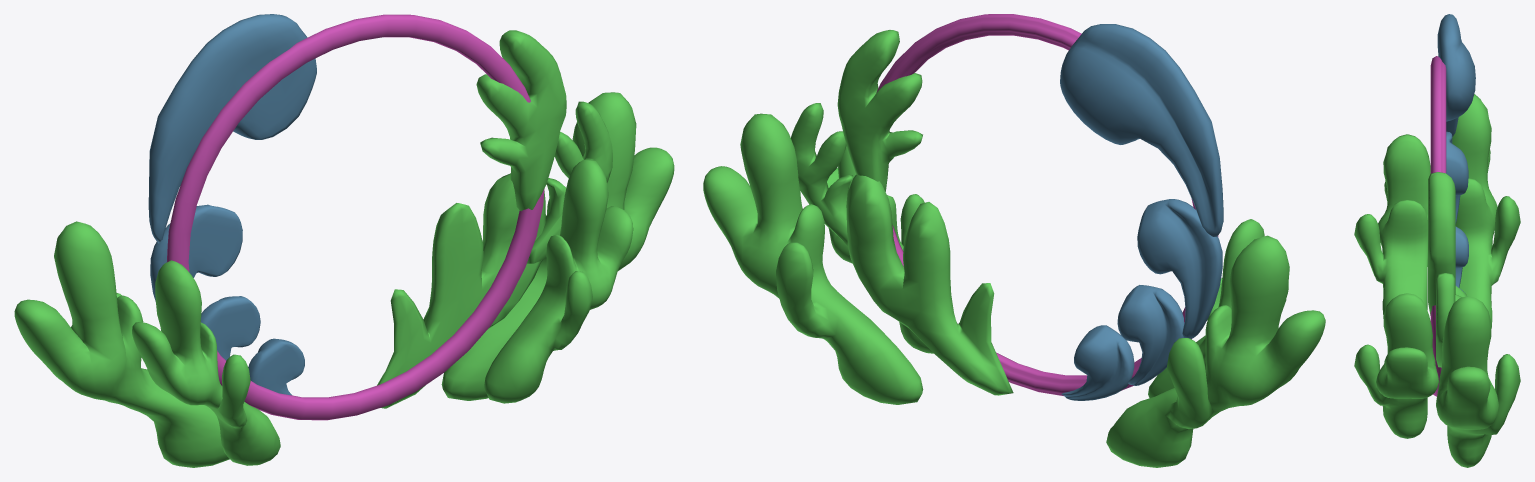
Rendered from gate2.fbx.
3 renders of one model, left to right at view 1: azimuth 30°, elevation 25°; view 2: azimuth 150°, elevation 25°; view 3: azimuth 270°, elevation 25°, orthographic. The views are drawn at different scales.
Visible parts, largest first — view 1: pCylinder14, pCube70, pCube63, pCube71, pCube64, pCube69, pCube67, pCube65, pCube61, pCube66, pCube59, pCube62; view 2: pCube67, pCube70, pCube63, pCube64, pCube65, pCube61, pCylinder14, pCube66, pCube59, pCube62, pCube69, pCube71; view 3: pCube67, pCube69, pCube71, pCube70, pCube65, pCube63, pCylinder14, pCube66, pCube61, pCube59.
Part boxes in pixels (<box>): pCylinder14: <box>166,14,544,420</box>; pCube70: <box>14,221,229,467</box>; pCube63: <box>148,14,316,243</box>; pCube71: <box>484,159,633,403</box>; pCube64: <box>377,173,545,408</box>; pCube69: <box>132,260,280,465</box>; pCube67: <box>441,92,674,400</box>; pCube65: <box>476,30,566,211</box>; pCube61: <box>150,204,242,301</box>; pCube66: <box>527,101,612,263</box>; pCube59: <box>201,296,260,360</box>; pCube62: <box>248,338,304,395</box>; pCube67: <box>703,113,923,404</box>; pCube70: <box>1106,235,1325,467</box>; pCube63: <box>1060,24,1223,236</box>; pCube64: <box>846,174,1013,395</box>; pCube65: <box>837,30,922,191</box>; pCube61: <box>1137,199,1222,338</box>; pCylinder14: <box>876,14,1218,395</box>; pCube66: <box>791,103,852,245</box>; pCube59: <box>1117,285,1184,385</box>; pCube62: <box>1061,325,1134,400</box>; pCube69: <box>1148,219,1288,398</box>; pCube71: <box>827,145,933,353</box>; pCube67: <box>1436,296,1520,467</box>; pCube69: <box>1354,134,1430,314</box>; pCube71: <box>1354,293,1438,438</box>; pCube70: <box>1452,94,1520,328</box>; pCube65: <box>1428,172,1455,315</box>; pCube63: <box>1437,14,1475,136</box>; pCylinder14: <box>1430,56,1446,396</box>; pCube66: <box>1436,273,1455,367</box>; pCube61: <box>1446,131,1468,224</box>; pCube59: <box>1455,226,1468,287</box>.
Size of the model in its own units: 71.47 by 46.87 by 20.24.
